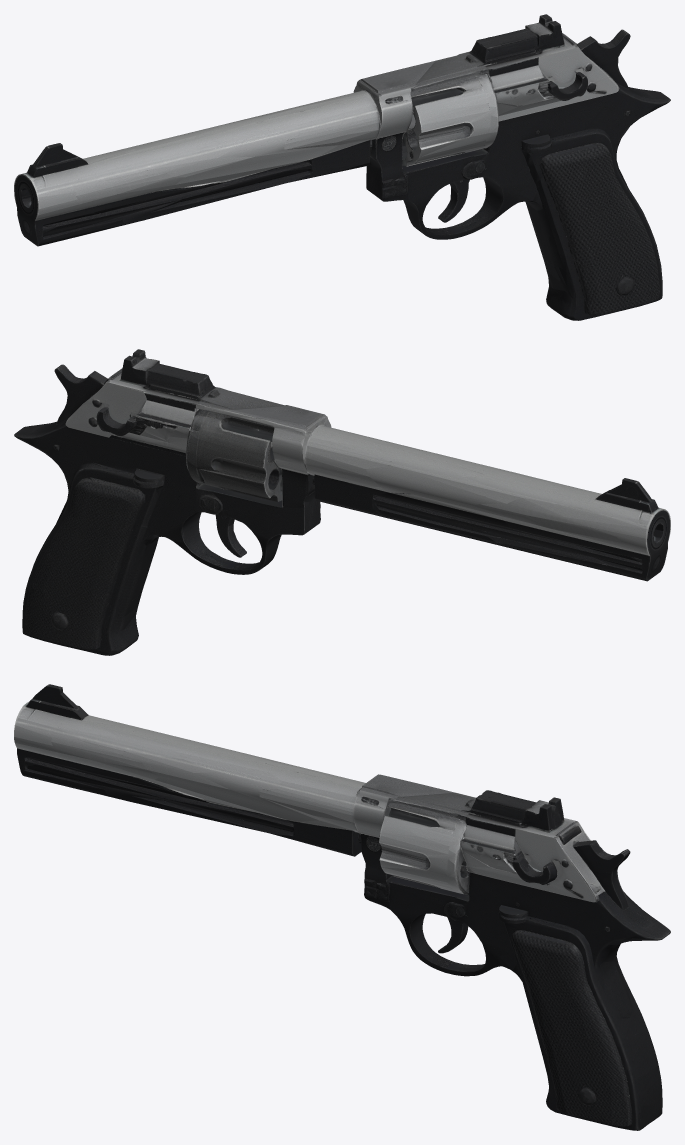
3 renders of one model, top to bottom at view 1: azimuth 30°, elevation 25°; view 2: azimuth 150°, elevation 25°; view 3: azimuth 330°, elevation 25°, orthographic.
Size of the model in its own units: 1.9 by 0.8418 by 0.223.
Materials: 1 (1 with a texture image).
